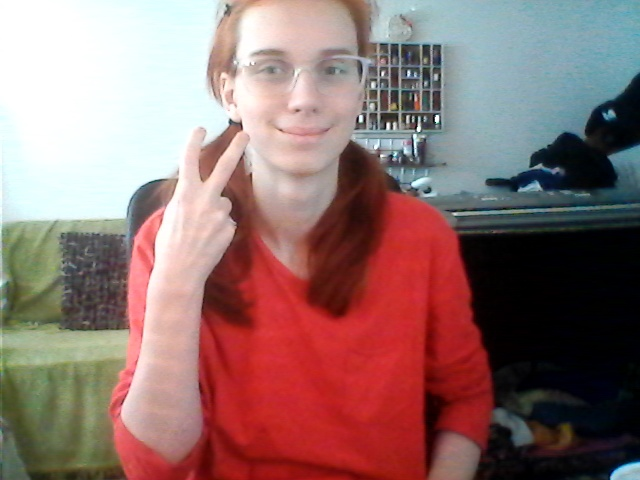usmievat: (149, 121, 355, 245)
